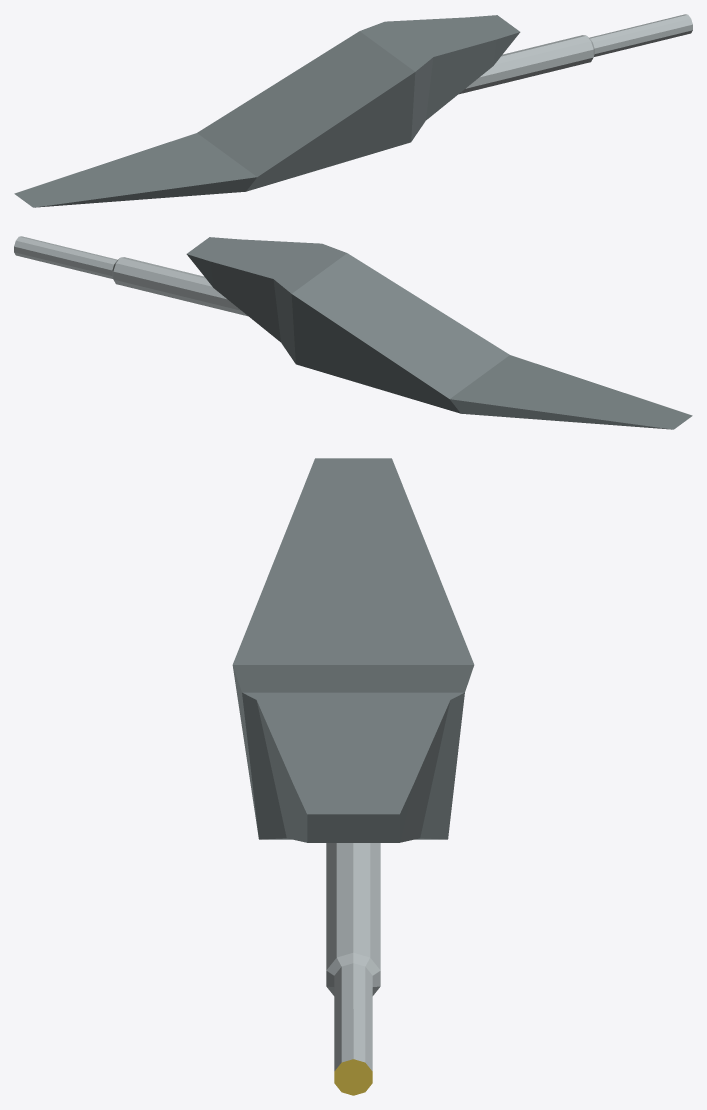
File: gunpod_single.fbx
3 views of the same model, one above another, from view 1: azimuth 30°, elevation 25°; view 2: azimuth 150°, elevation 25°; view 3: azimuth 270°, elevation 25° (orthographic). The views are drawn at different scales.
Visible parts, largest first — view 1: Cube.002; view 2: Cube.002; view 3: Cube.002.
Boxes of the visible parts, x1,y1,x2,y2 form: Cube.002: [14, 14, 692, 207]; Cube.002: [14, 236, 692, 429]; Cube.002: [232, 458, 474, 1095].
Size of the model in its own units: 126 by 17.02 by 19.78.
